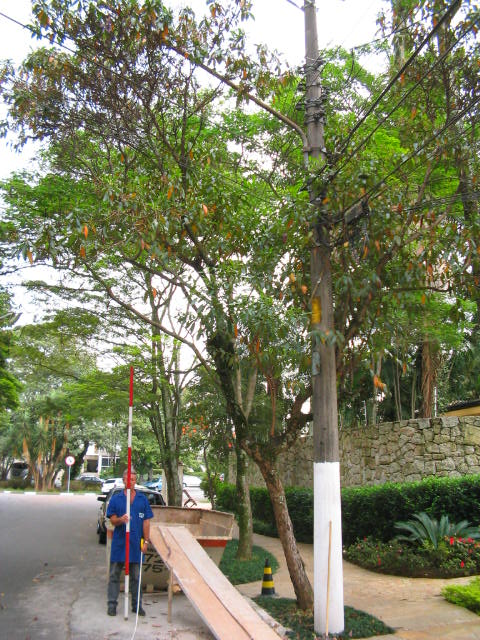crown: (7, 59, 466, 376)
stem: (257, 464, 316, 610)
stick: (114, 366, 144, 622)
tree: (4, 56, 467, 613)
